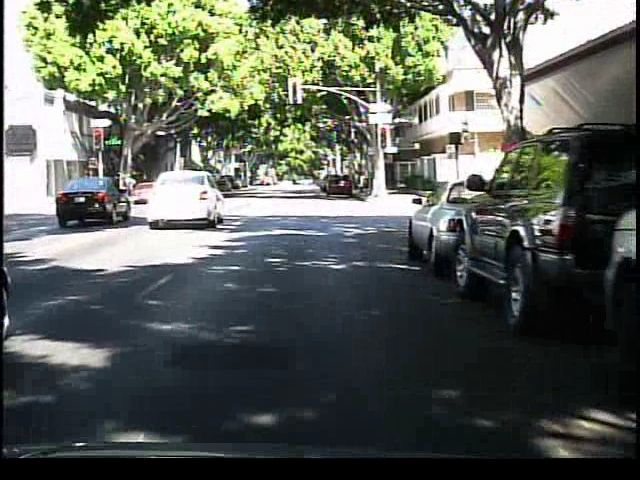person: (120, 162, 145, 201)
